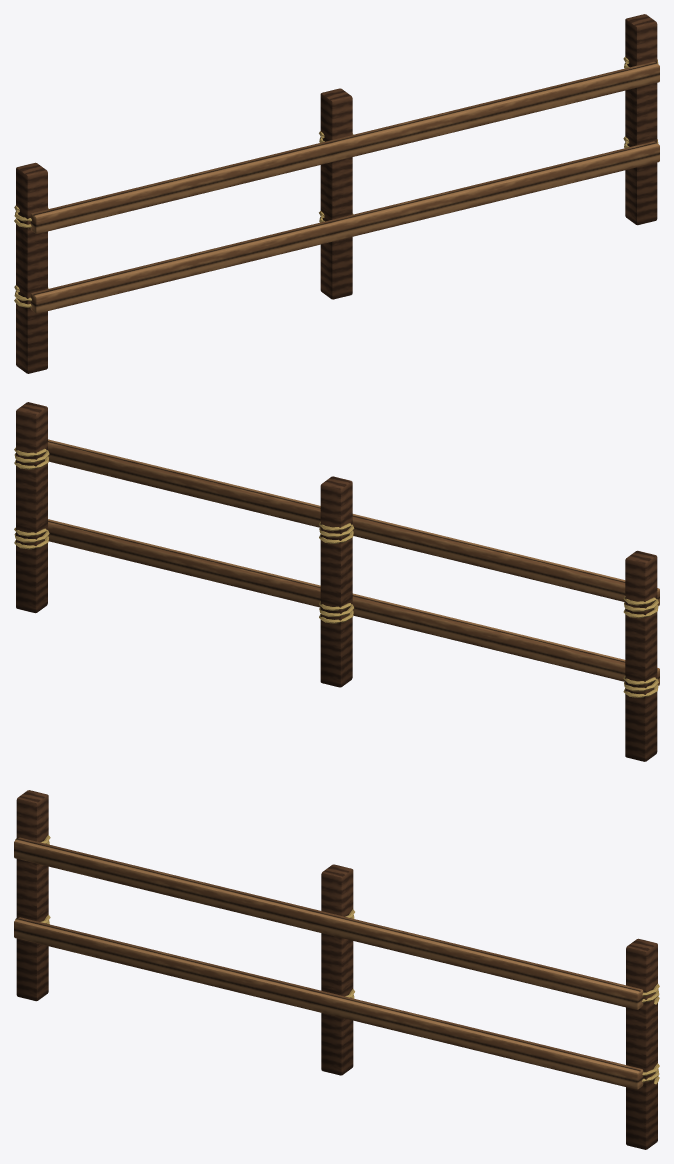
The model's file is fence.gltf.
The picture shows the model from 3 angles, top to bottom: view 1: azimuth 30°, elevation 25°; view 2: azimuth 150°, elevation 25°; view 3: azimuth 330°, elevation 25°; orthographic projection.
Visible parts, largest first — view 1: FenceMesh; view 2: FenceMesh; view 3: FenceMesh.
Boxes of the visible parts, x1=… form: FenceMesh: x1=14, y1=14, x2=659, y2=373; FenceMesh: x1=14, y1=402, x2=659, y2=761; FenceMesh: x1=14, y1=790, x2=659, y2=1149.
Bounding box in the file's own units: 4.2 × 1.25 × 0.237.
Materials: 3 (3 with a texture image).
